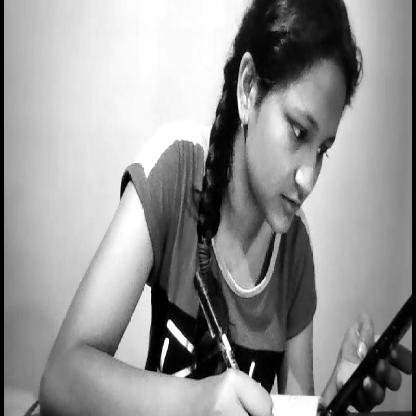Distracted: (221, 0, 358, 241)
